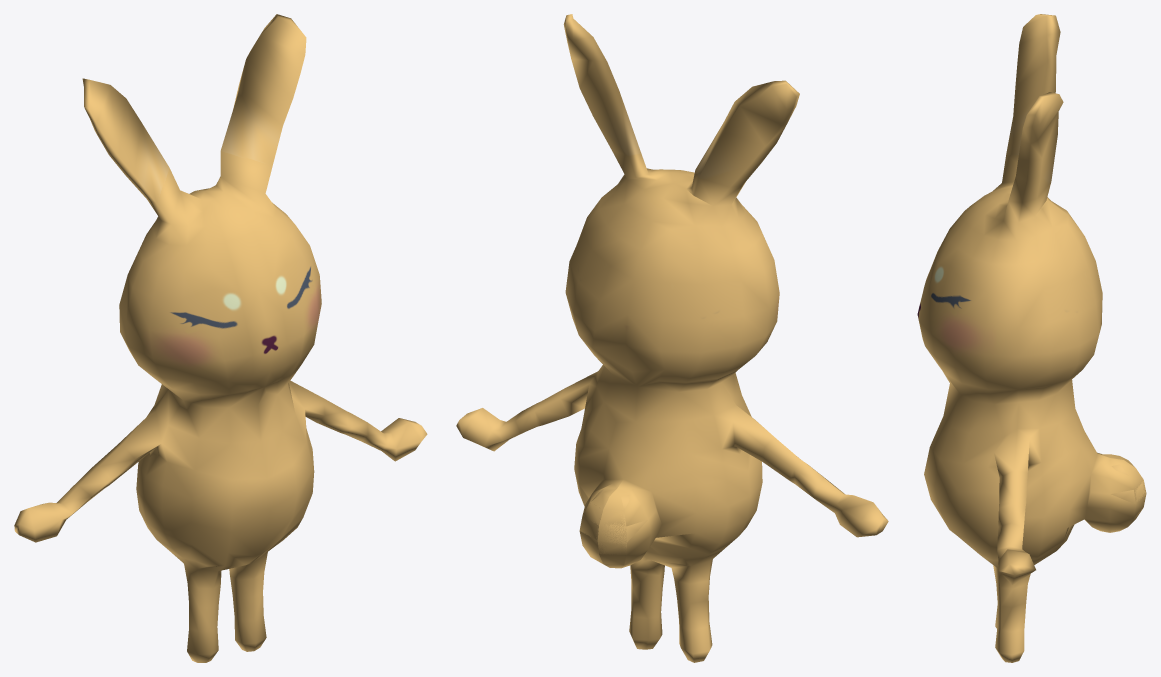
Rendered from Bunnyanimation21.fbx.
The picture shows the model from 3 angles, left to right: view 1: azimuth 30°, elevation 25°; view 2: azimuth 150°, elevation 25°; view 3: azimuth 270°, elevation 25°; orthographic projection. The views are drawn at different scales.
Parts seen in each view (by area): view 1: Plane; view 2: Plane; view 3: Plane.
Part boxes in pixels (<box>): Plane: <box>14,14,427,662</box>; Plane: <box>456,14,888,662</box>; Plane: <box>917,14,1146,662</box>.
Bounding box in the file's own units: 420 × 599 × 210.
